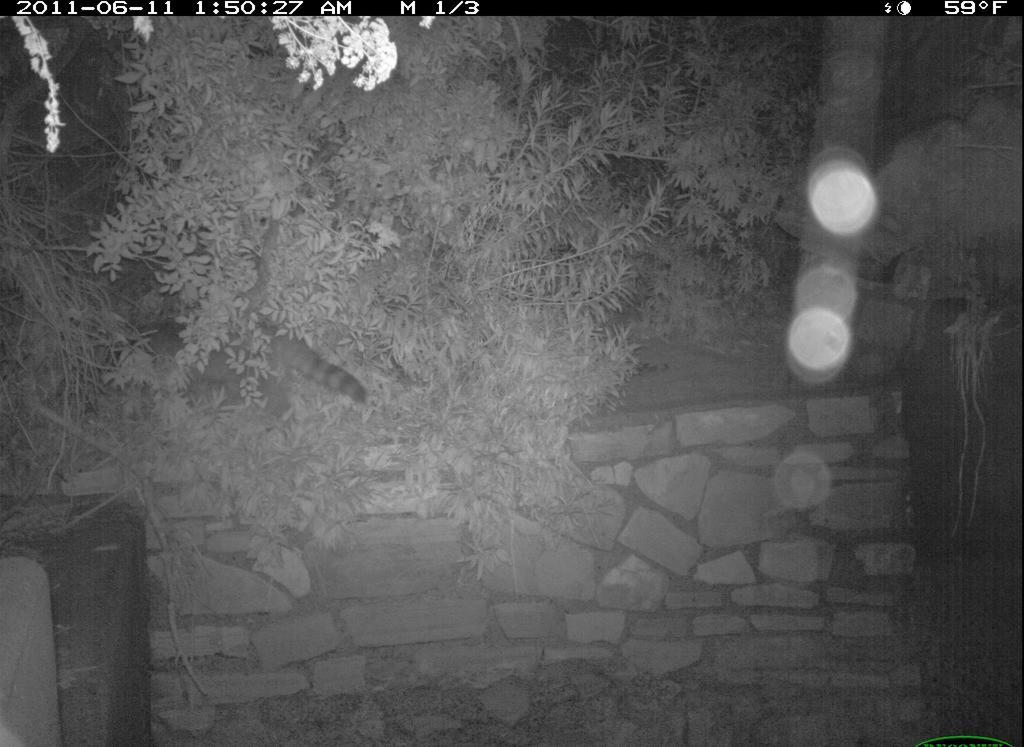raccoon: (125, 257, 377, 425)
